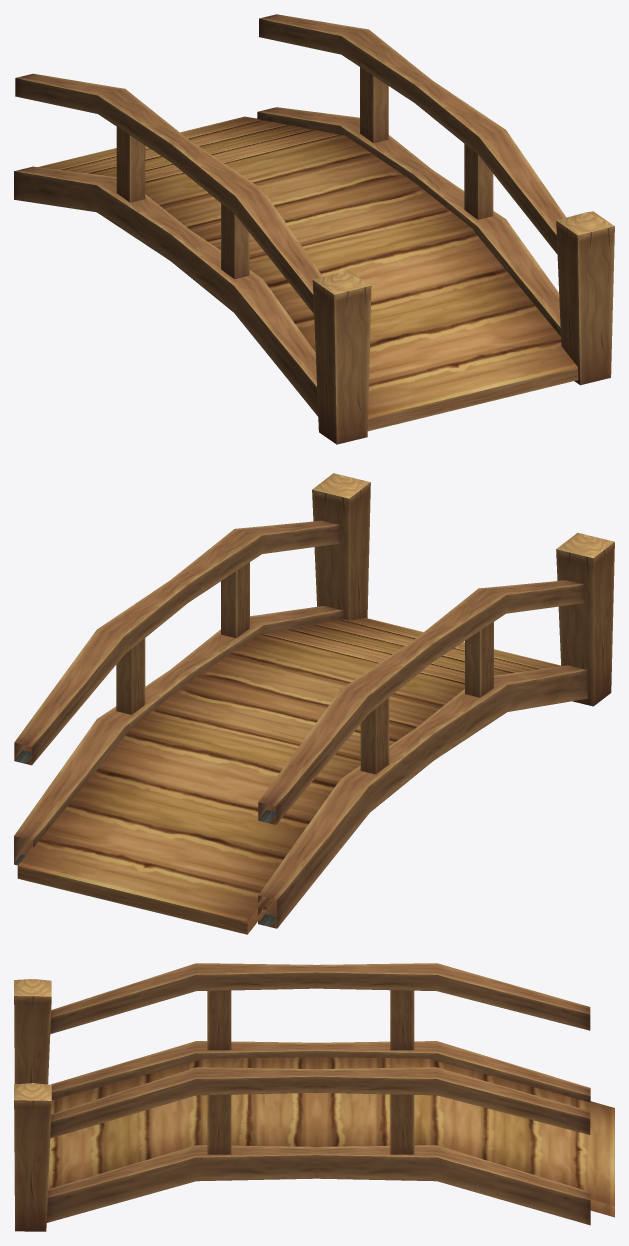
Rendered from bridge_02b_tile_01.fbx.
3 views of the same model, one above another, from view 1: azimuth 30°, elevation 25°; view 2: azimuth 150°, elevation 25°; view 3: azimuth 270°, elevation 25° (orthographic). The views are drawn at different scales.
Visible parts, largest first — view 1: bridge_02b_tile_01; view 2: bridge_02b_tile_01; view 3: bridge_02b_tile_01.
Part boxes in pixels (x1,y1,x2,y2): bridge_02b_tile_01: [14, 14, 614, 444]; bridge_02b_tile_01: [14, 473, 614, 934]; bridge_02b_tile_01: [14, 963, 614, 1231].
Bounding box in the file's own units: 2.05 × 1.21 × 4.34.
